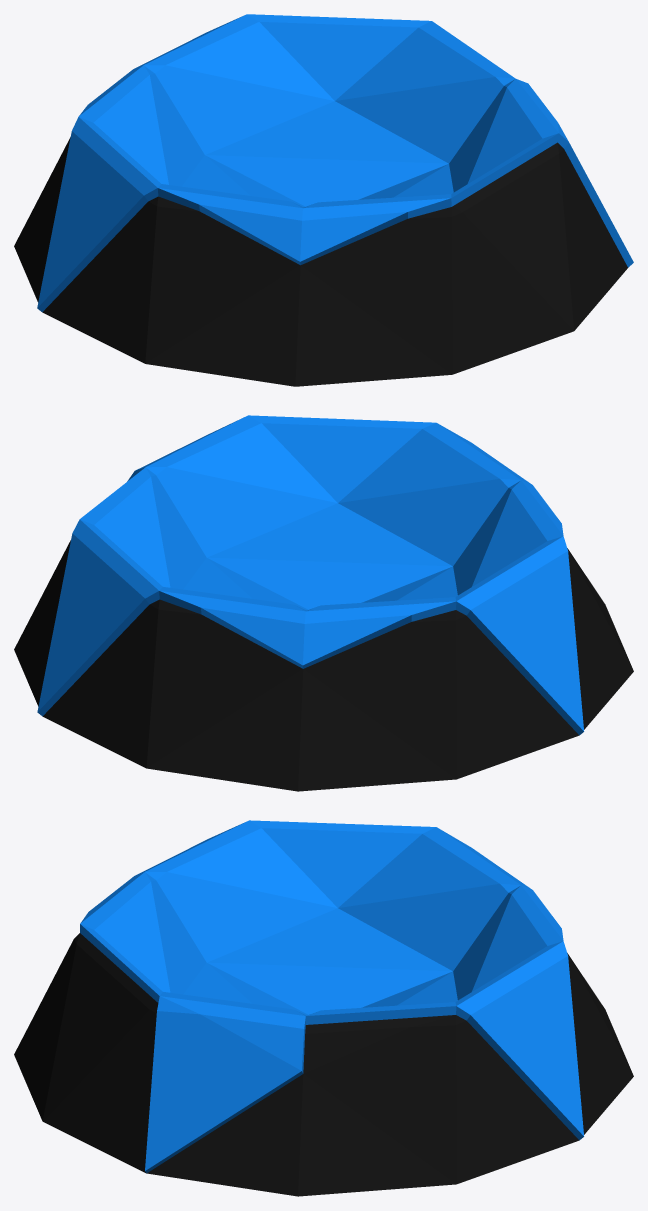
Rendered from ice_geiser.FBX.
3 views of the same model, one above another, from view 1: azimuth 30°, elevation 25°; view 2: azimuth 150°, elevation 25°; view 3: azimuth 270°, elevation 25° (orthographic).
Parts seen in each view (by area): view 1: ICE_GEISER; view 2: ICE_GEISER; view 3: ICE_GEISER.
Boxes of the visible parts, x1,y1,x2,y2 form: ICE_GEISER: (14,14,633,386); ICE_GEISER: (14,415,633,791); ICE_GEISER: (14,820,633,1196).
Size of the model in its own units: 3.11 by 0.8043 by 3.08.
